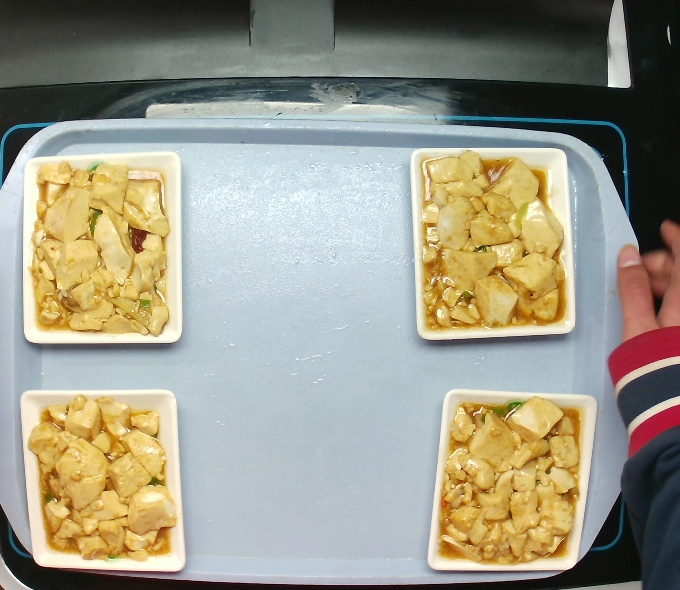wcq-DouFu: (24, 157, 176, 343), (438, 390, 588, 572), (415, 154, 562, 336), (27, 397, 173, 573)
